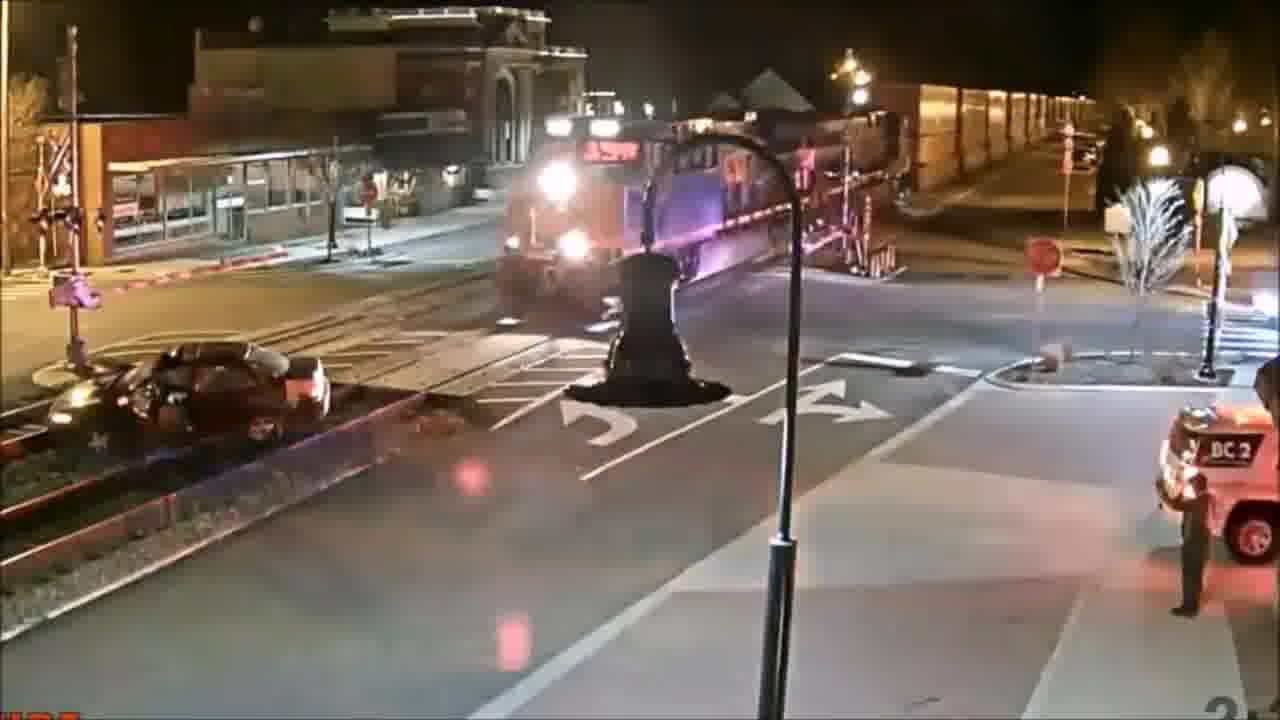crossing railway track: (32, 344, 340, 481)
